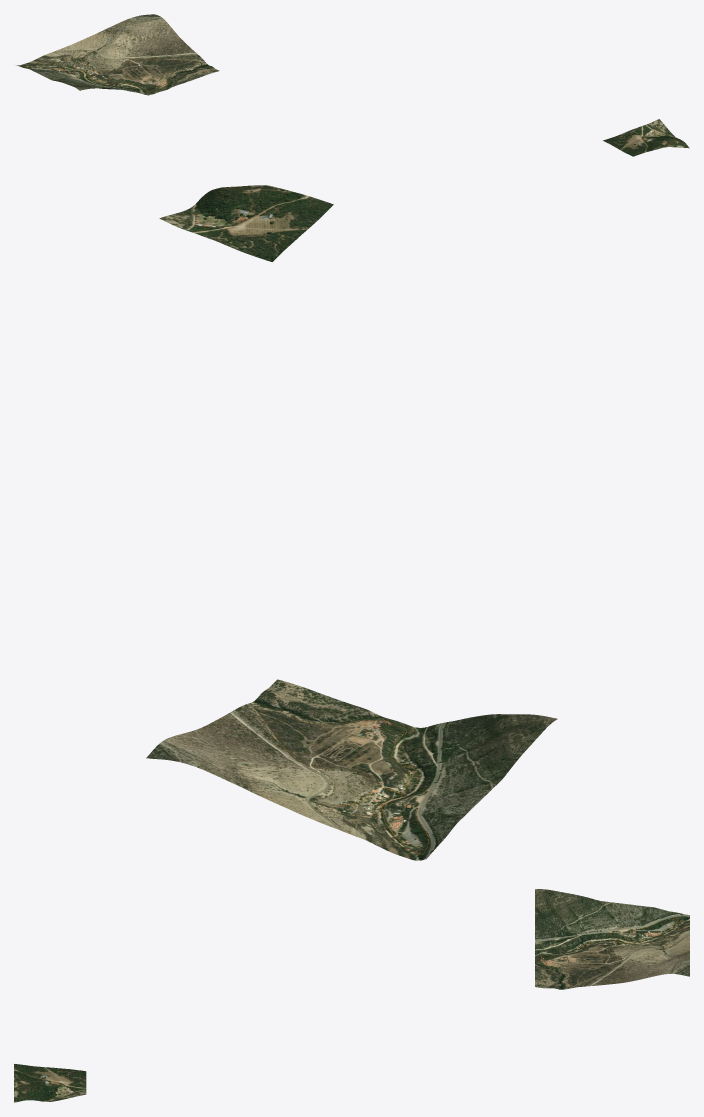
File: maqueta.glb
3 renders of one model, top to bottom at view 1: azimuth 30°, elevation 25°; view 2: azimuth 150°, elevation 25°; view 3: azimuth 270°, elevation 25°, orthographic. The views are drawn at different scales.
Size of the model in its own units: 2125 by 210 by 2707.
15 materials, 15 textured.
